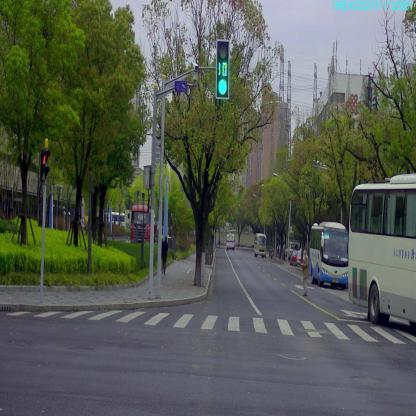traffic-light: (217, 40, 229, 98)
